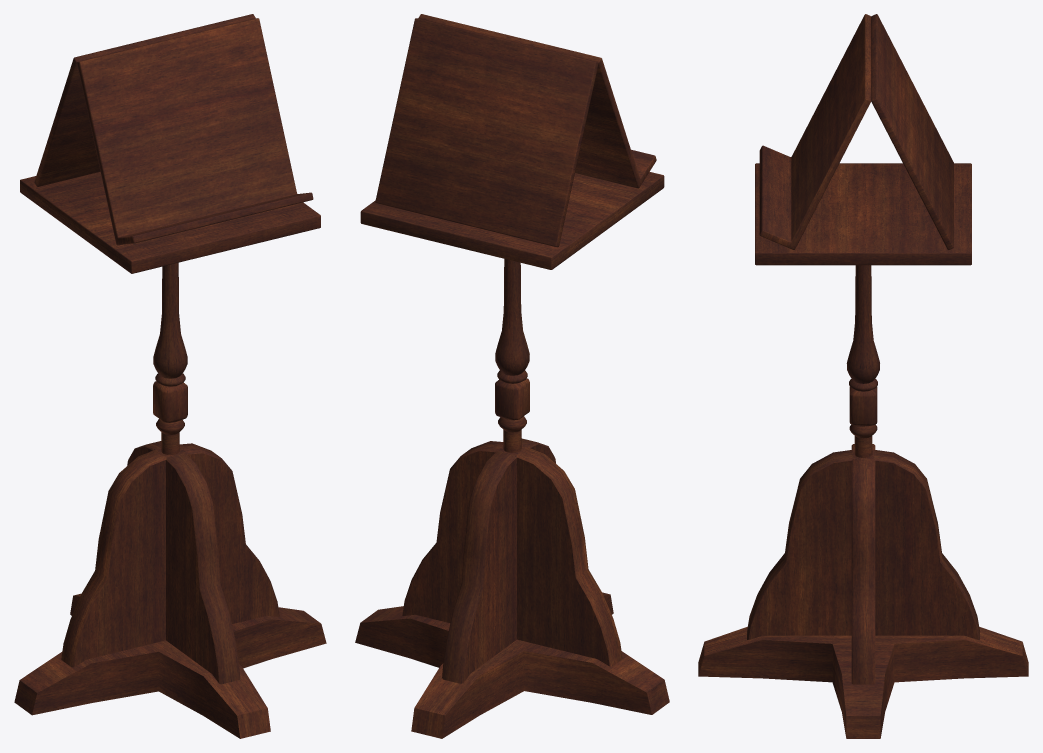
File: SM_Lecterm_a_001.fbx
3 views of the same model, side by side, from view 1: azimuth 30°, elevation 25°; view 2: azimuth 150°, elevation 25°; view 3: azimuth 270°, elevation 25° (orthographic). The views are drawn at different scales.
Parts seen in each view (by area): view 1: SM_Lecterm_a_001; view 2: SM_Lecterm_a_001; view 3: SM_Lecterm_a_001.
Boxes of the visible parts, bbox=[...] form: SM_Lecterm_a_001: bbox=[14, 14, 326, 738]; SM_Lecterm_a_001: bbox=[355, 14, 669, 738]; SM_Lecterm_a_001: bbox=[698, 14, 1028, 738].
Size of the model in its own units: 71.91 by 147 by 71.94.
